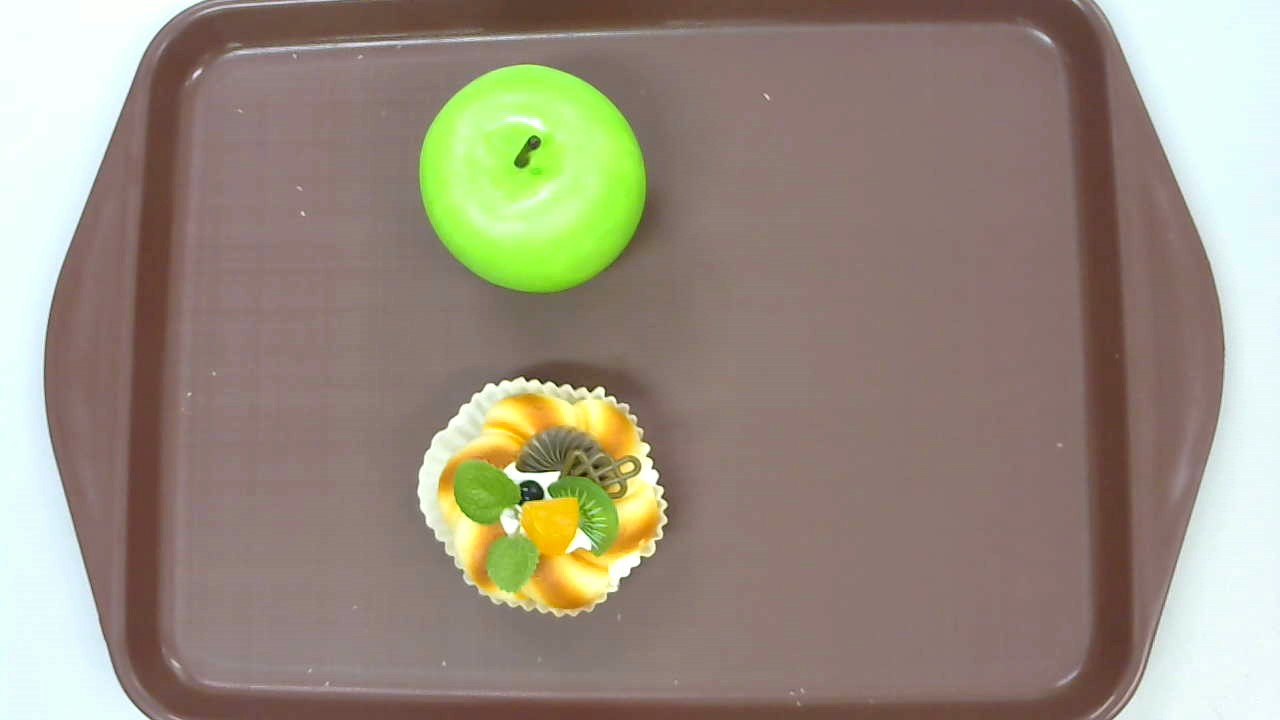fruit tart: (416, 376, 669, 619)
green apple: (418, 64, 647, 293)
